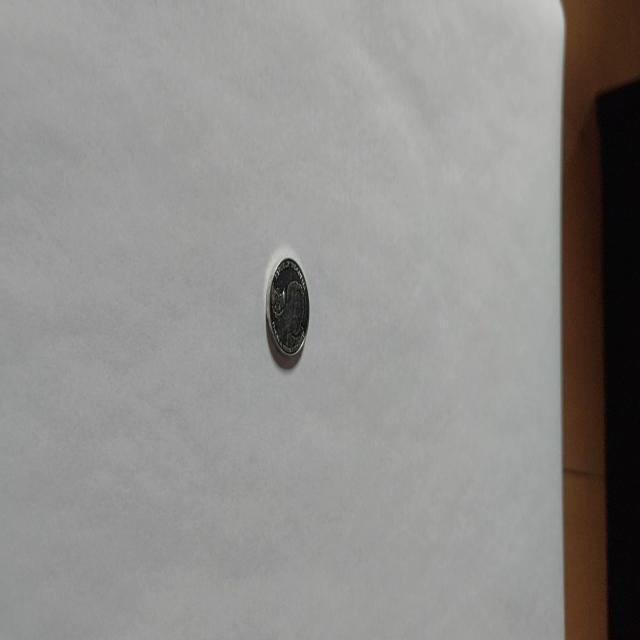seratus rupiah: (265, 255, 310, 361)
